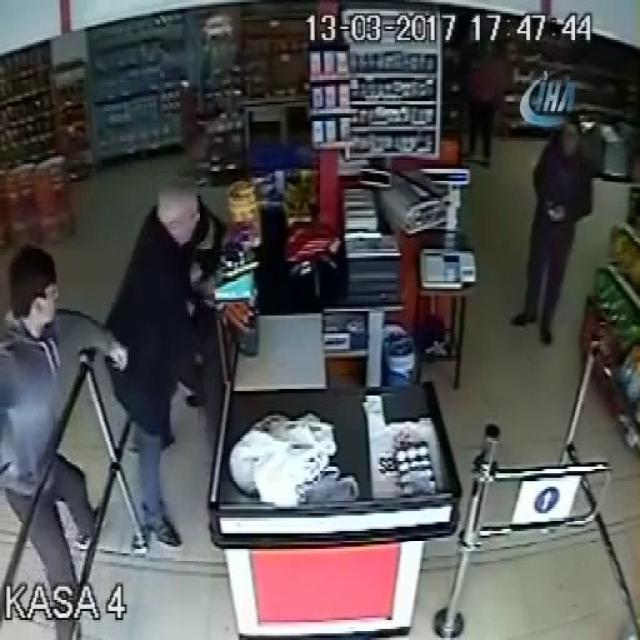fight: (0, 175, 205, 640)
